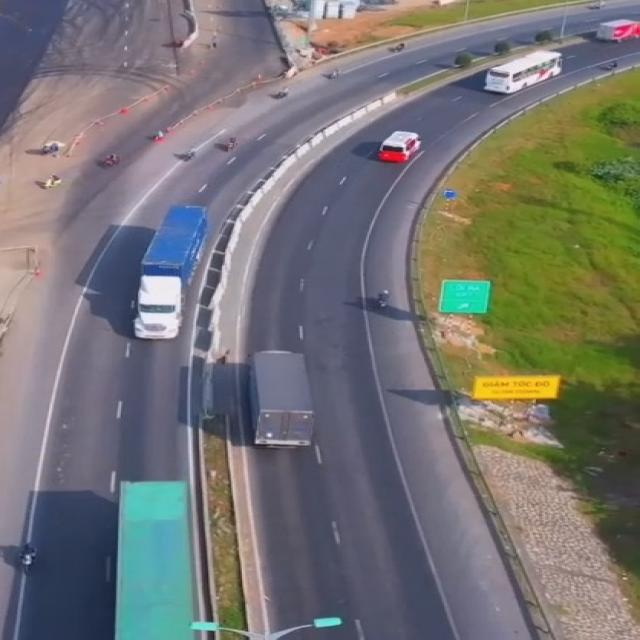bus: (490, 51, 564, 96), (377, 130, 422, 166)
motorbike: (17, 540, 40, 568), (369, 287, 395, 310)
truck: (113, 478, 207, 638), (130, 204, 207, 341), (239, 348, 319, 449)
